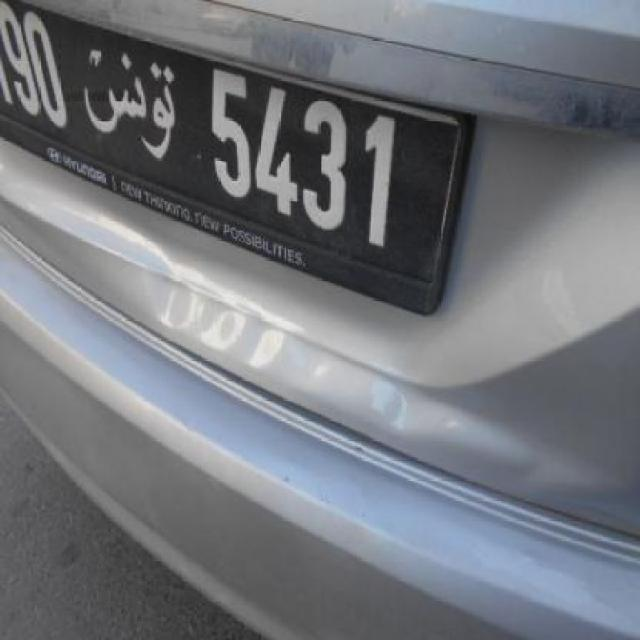car damage: (149, 270, 293, 380), (508, 430, 629, 504), (370, 379, 466, 448)
